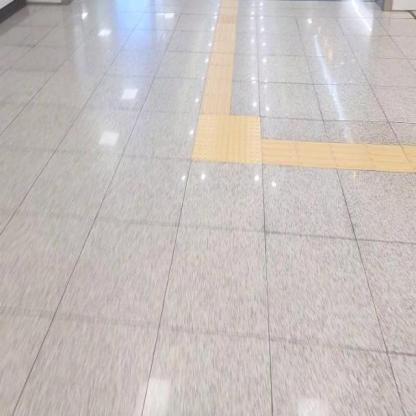podotacti: (179, 82, 277, 185), (262, 138, 416, 173), (199, 1, 240, 113)
